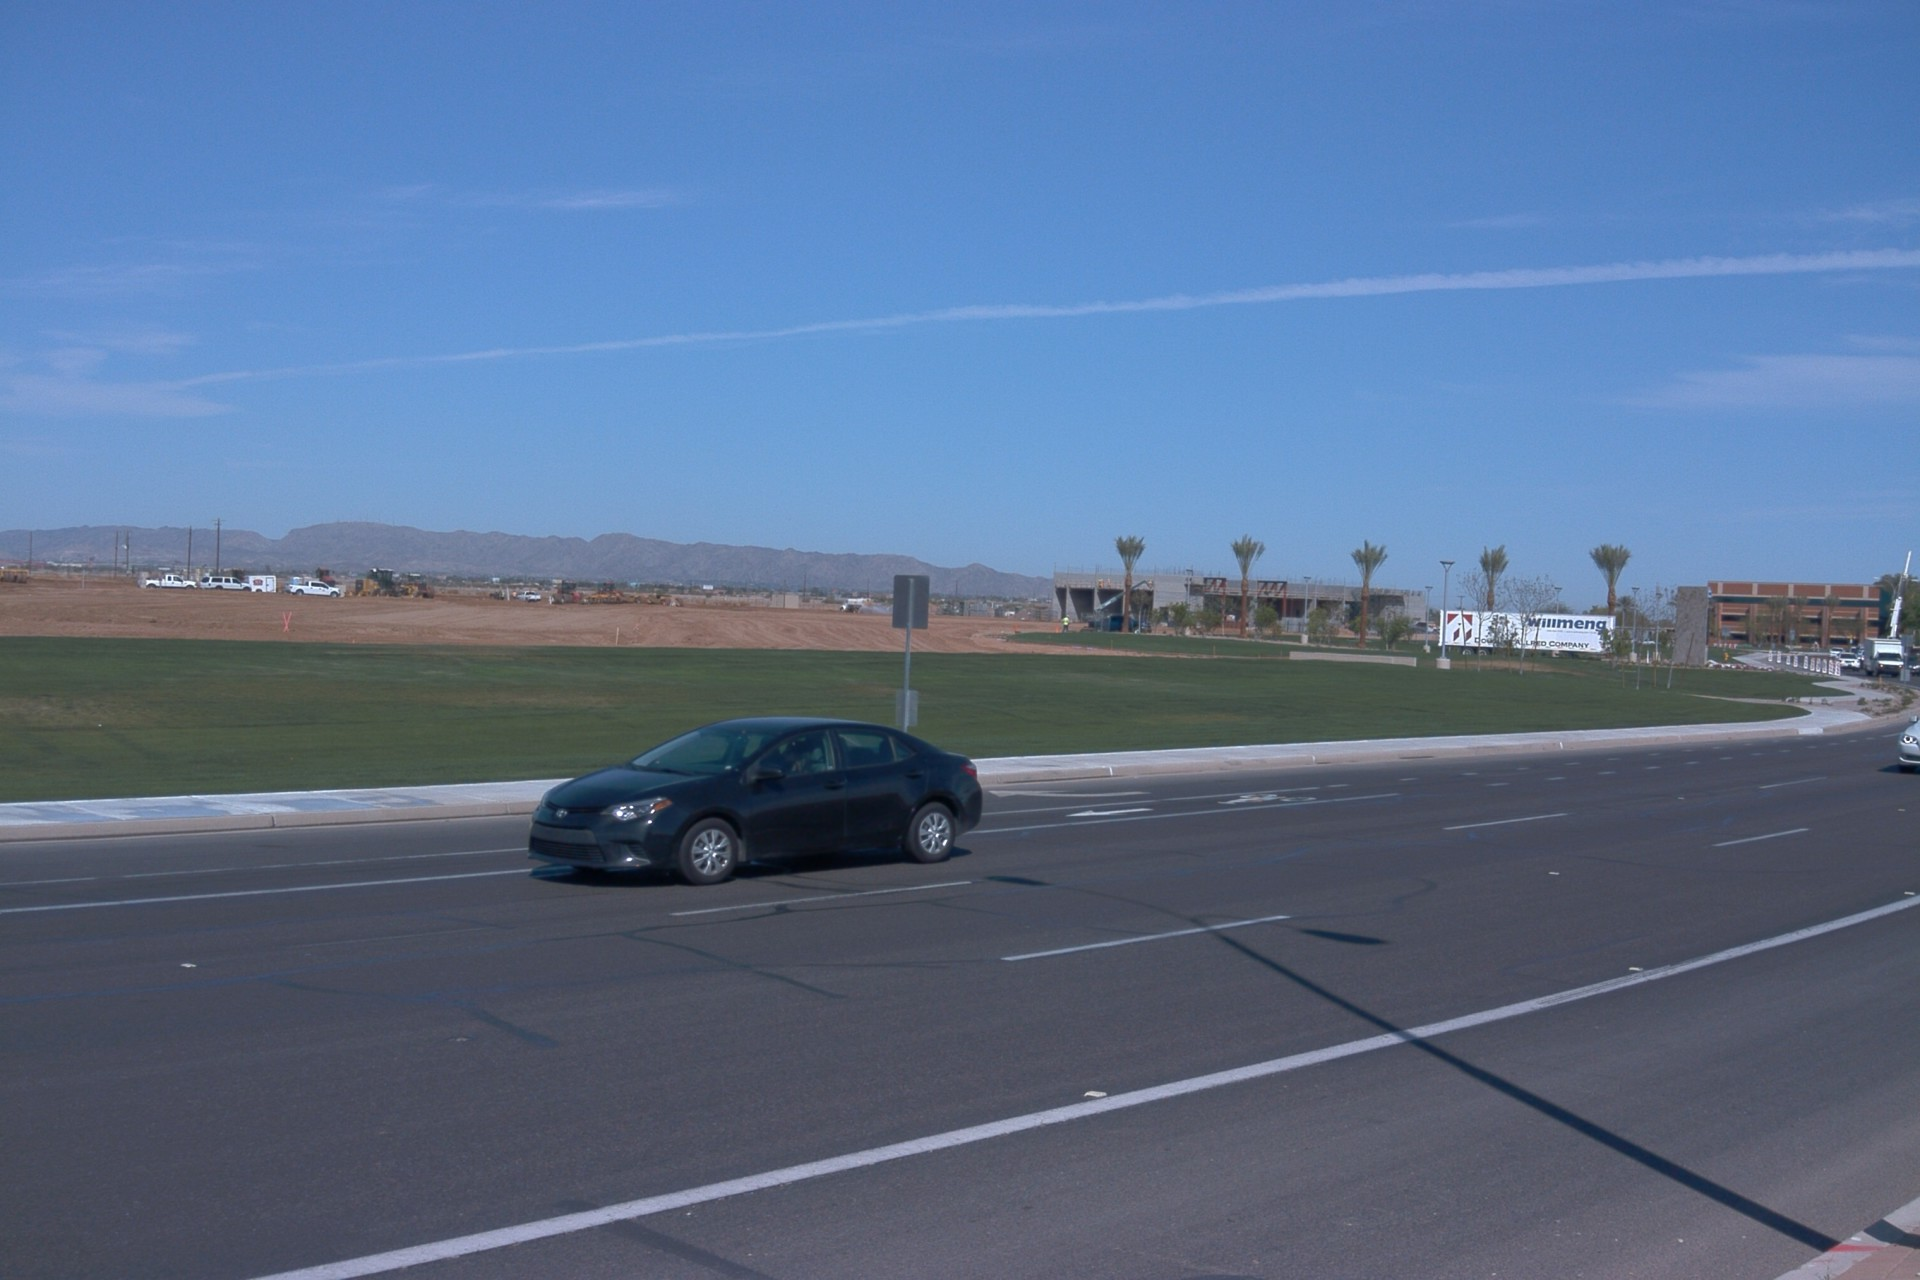TYPE_PEDESTRIAN: (1061, 615, 1071, 634), (511, 588, 519, 600), (500, 590, 505, 601)
TYPE_VEHICLE: (523, 715, 984, 887), (1435, 605, 1618, 660), (1092, 576, 1156, 621), (343, 566, 421, 599), (1885, 548, 1912, 639), (1860, 636, 1905, 679), (1897, 713, 1920, 776), (1084, 613, 1149, 633), (291, 575, 346, 597), (397, 571, 438, 599), (142, 573, 198, 591), (199, 574, 253, 591), (835, 589, 879, 609), (243, 573, 279, 592), (313, 567, 344, 588), (1838, 652, 1862, 673), (219, 567, 246, 583), (510, 587, 541, 599), (1906, 656, 1920, 677), (1829, 647, 1846, 658), (1, 565, 4, 569)
